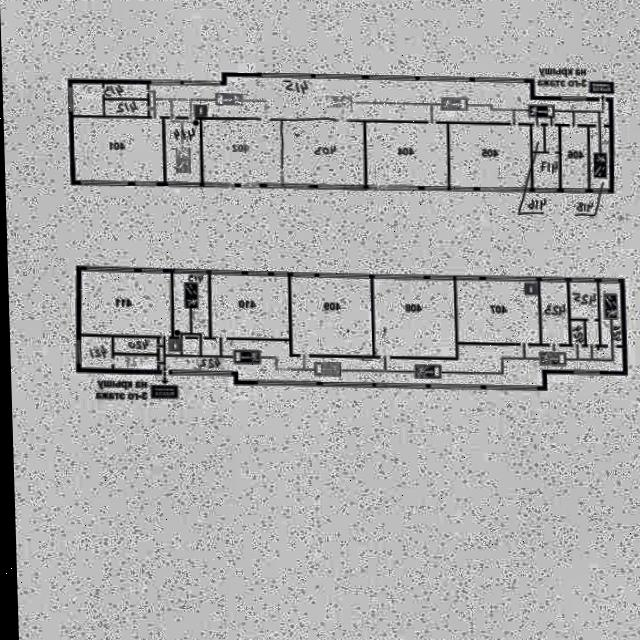room: (148, 72, 610, 123), (165, 337, 625, 385), (289, 274, 374, 354), (376, 273, 453, 358), (71, 116, 164, 183), (79, 270, 172, 336), (364, 122, 450, 184), (448, 121, 532, 184), (207, 273, 289, 337), (201, 119, 281, 182), (456, 279, 539, 339), (281, 121, 364, 181), (166, 117, 200, 183), (173, 272, 208, 334), (562, 122, 587, 186), (544, 275, 567, 340), (590, 123, 611, 187), (599, 280, 620, 342), (72, 82, 103, 116), (571, 279, 598, 317), (81, 336, 112, 369), (536, 151, 558, 185), (105, 100, 148, 115), (115, 337, 159, 351), (105, 83, 148, 97), (114, 356, 158, 368), (546, 123, 559, 150), (587, 318, 600, 342), (572, 317, 584, 342), (533, 123, 544, 150)
